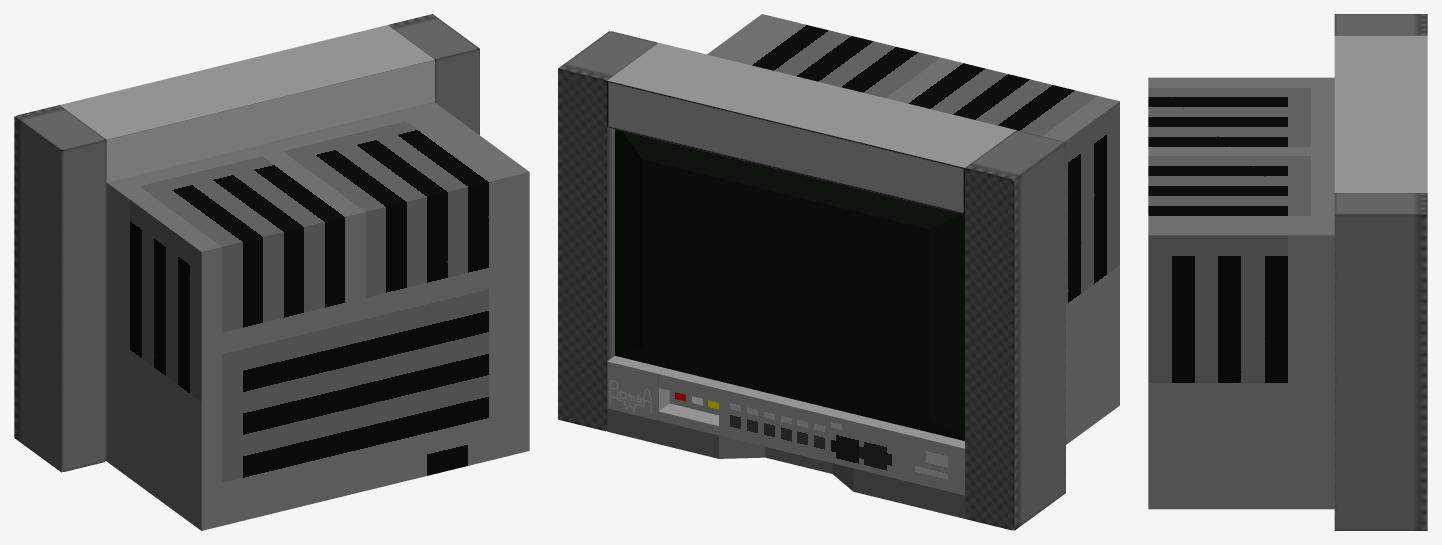
Rendered from toby shishka.fbx.
The picture shows the model from 3 angles, left to right: view 1: azimuth 30°, elevation 25°; view 2: azimuth 150°, elevation 25°; view 3: azimuth 270°, elevation 25°; orthographic projection. The views are drawn at different scales.
Visible parts, largest first — view 1: cube_6, cube_9, cube_8, cube_10; view 2: cube_11, cube_9, cube_6, cube_8, cube_10, cube_15, cube_1, cube_3, cube_2, cube, cube_12, cube_7 (+6 smaller); view 3: cube_6, cube_10, cube_8, cube_9.
Boxes of the visible parts, <box> form: cube_6: <box>106,102,529,530</box>; cube_9: <box>14,105,106,472</box>; cube_8: <box>60,25,434,182</box>; cube_10: <box>388,14,479,135</box>; cube_11: <box>643,159,929,416</box>; cube_9: <box>965,130,1065,530</box>; cube_6: <box>707,14,1119,444</box>; cube_8: <box>607,43,1016,214</box>; cube_10: <box>558,31,657,431</box>; cube_15: <box>719,383,964,495</box>; cube_1: <box>622,131,961,229</box>; cube_3: <box>929,214,964,437</box>; cube_2: <box>615,129,642,355</box>; cube: <box>615,347,964,440</box>; cube_12: <box>607,356,669,420</box>; cube_7: <box>607,408,718,458</box>; cube_6: <box>1148,77,1334,509</box>; cube_10: <box>1334,193,1427,530</box>; cube_8: <box>1334,35,1427,214</box>; cube_9: <box>1334,14,1427,35</box>.
Bounding box in the file's own units: 63.75 × 46.88 × 37.5.
Materials: 8 (8 with a texture image).
